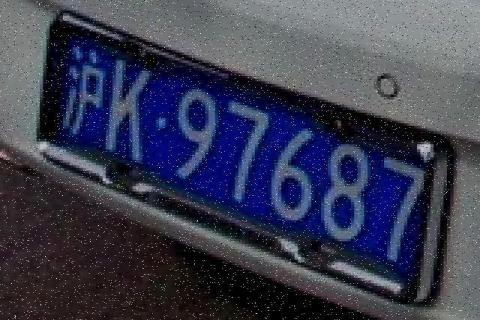LicensePlate: (33, 8, 455, 310)
